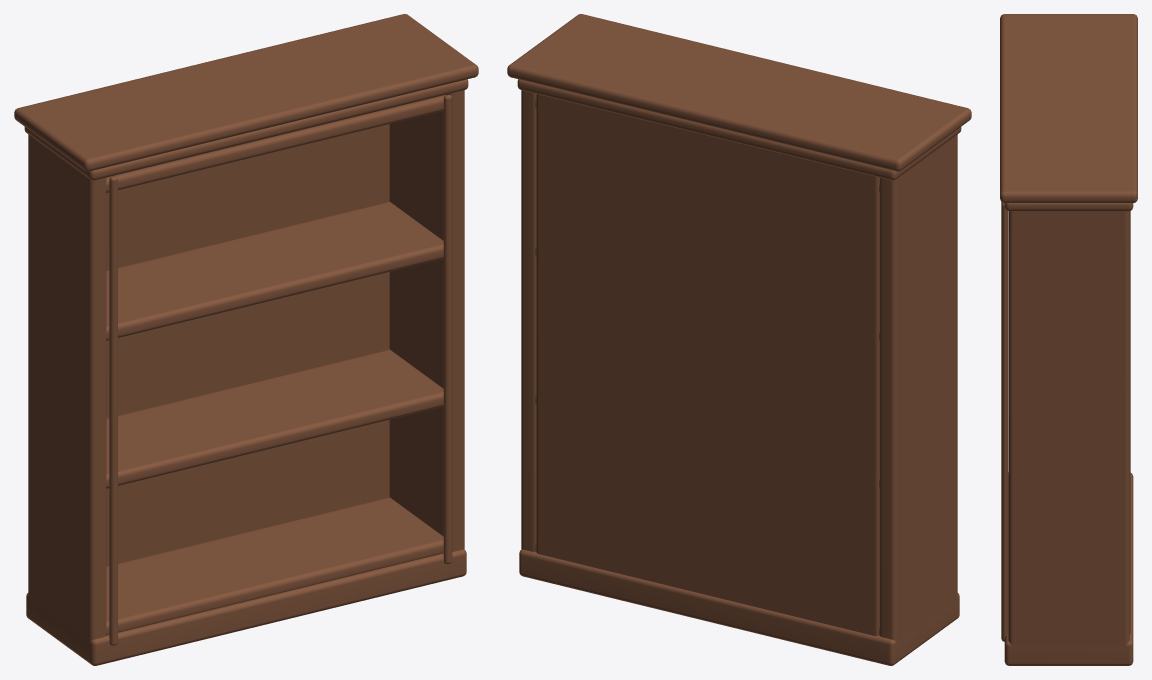
File: classic-bookcase.glb
3 renders of one model, left to right at view 1: azimuth 30°, elevation 25°; view 2: azimuth 150°, elevation 25°; view 3: azimuth 270°, elevation 25°, orthographic. The views are drawn at different scales.
Visible parts, largest first — view 1: Side.004; view 2: Side.004; view 3: Side.004.
Part boxes in pixels (x1,y1,x2,y2): Side.004: [14, 14, 478, 665]; Side.004: [507, 14, 971, 665]; Side.004: [1000, 14, 1137, 665].
Size of the model in its own units: 2.29 by 2.83 by 0.74.
